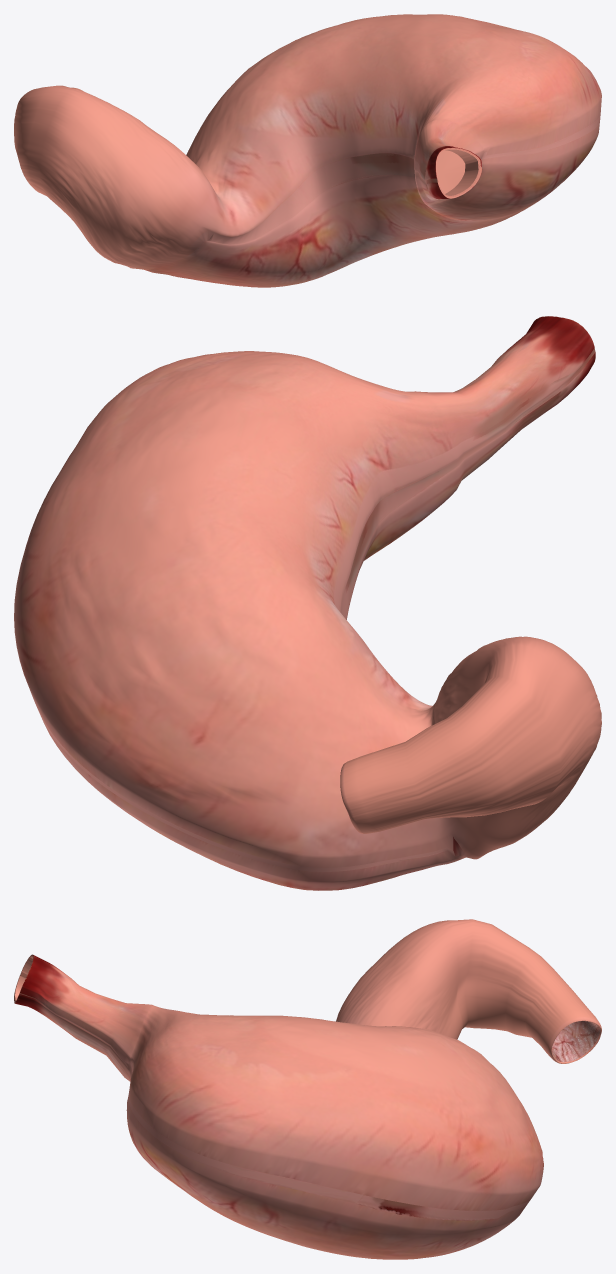
Rendered from stomach.obj.
3 views of the same model, one above another, from view 1: azimuth 30°, elevation 25°; view 2: azimuth 150°, elevation 25°; view 3: azimuth 270°, elevation 25° (orthographic). The views are drawn at different scales.
Parts seen in each view (by area): view 1: Stomach; view 2: Stomach; view 3: Stomach.
Boxes of the visible parts, bbox=[...] form: Stomach: bbox=[14, 14, 601, 287]; Stomach: bbox=[14, 316, 601, 890]; Stomach: bbox=[14, 919, 601, 1259].
Bounding box in the file's own units: 5.13 × 2.9 × 5.58.
